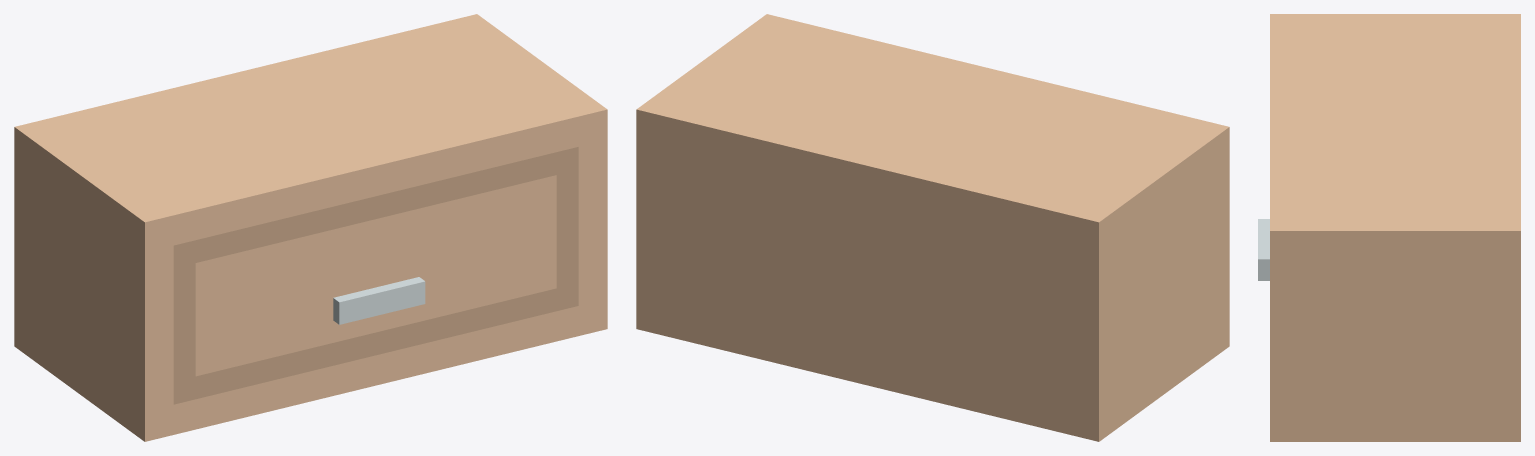
The model's file is kitchenCabinetUpperLow.glb.
The picture shows the model from 3 angles, left to right: view 1: azimuth 30°, elevation 25°; view 2: azimuth 150°, elevation 25°; view 3: azimuth 270°, elevation 25°; orthographic projection. The views are drawn at different scales.
Visible parts, largest first — view 1: kitchenCabinetUpperLow(Clone), door.008; view 2: kitchenCabinetUpperLow(Clone); view 3: kitchenCabinetUpperLow(Clone), door.008.
Boxes of the visible parts, left/top/right/bottom form: kitchenCabinetUpperLow(Clone): left=14, top=14, right=607, bottom=441; door.008: left=173, top=147, right=578, bottom=404; kitchenCabinetUpperLow(Clone): left=636, top=14, right=1229, bottom=441; kitchenCabinetUpperLow(Clone): left=1270, top=14, right=1520, bottom=441; door.008: left=1258, top=219, right=1269, bottom=280.
Size of the model in its own units: 0.86 by 0.39 by 0.44.
